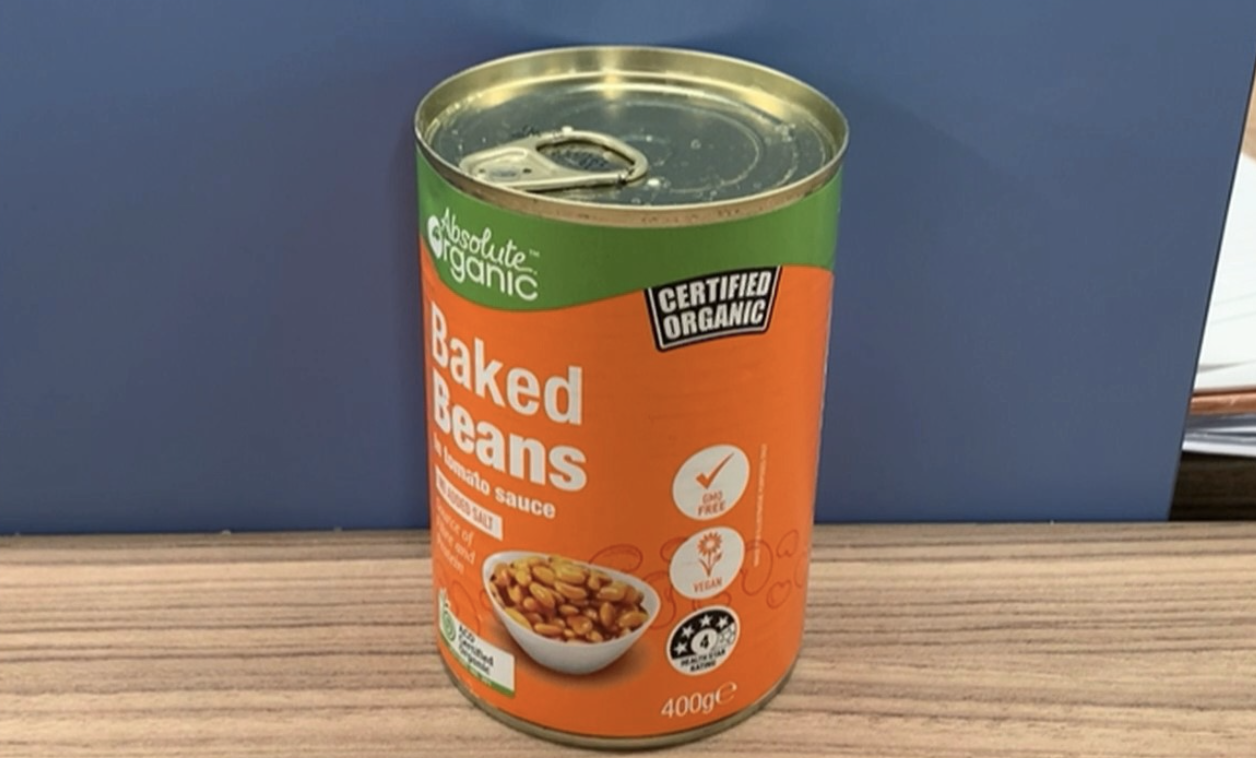Baked beans_450g: (438, 224, 762, 714)
